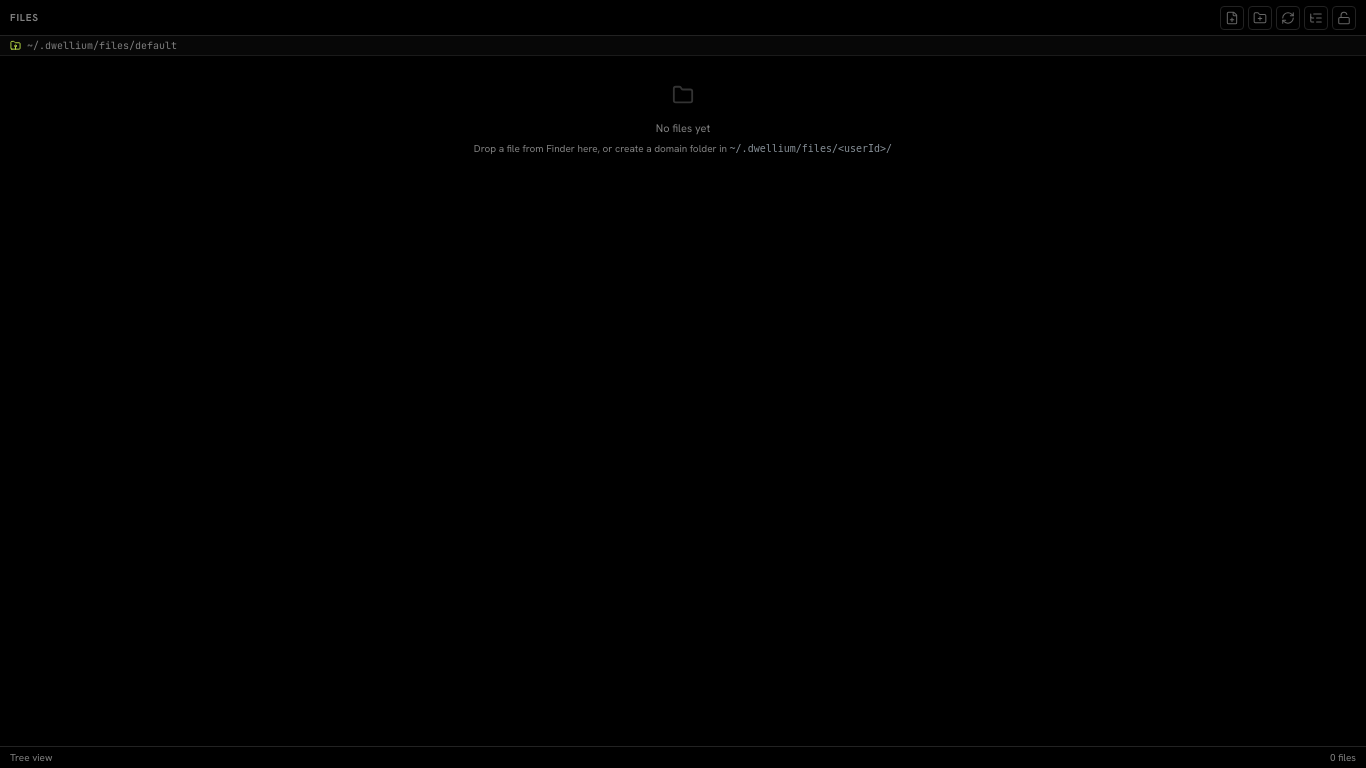
Test: File Explorer audit fixes › shows the new-entry input on an EMPTY tree
expect the text "No files yet" is shown: met, box [656, 121, 710, 135]
Click the button titled "New domain (folder at root)" at (1260, 18), box [1248, 6, 1272, 30]
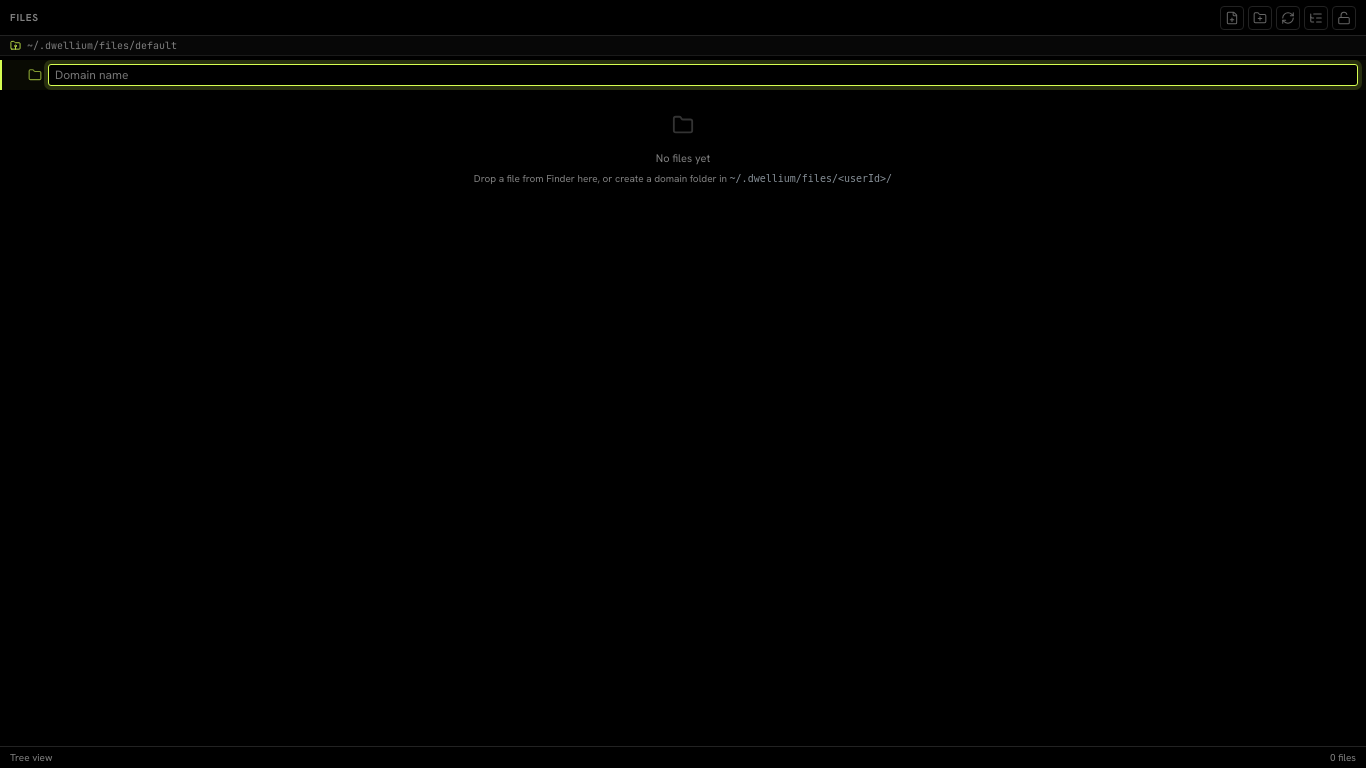
expect the field with placeholder "Domain name" is shown: met, box [48, 64, 1358, 86]
